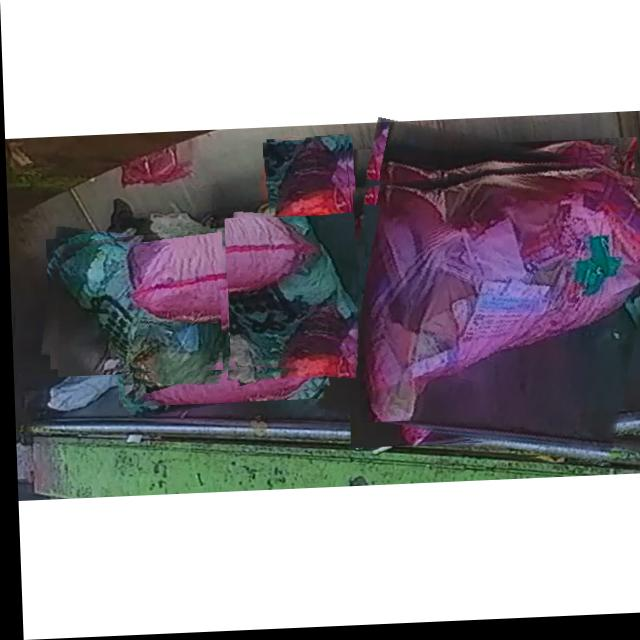general_trashbag: (56, 239, 218, 373), (226, 219, 355, 370)
other_trashbag: (354, 171, 640, 425), (118, 280, 318, 407), (270, 141, 354, 290)
